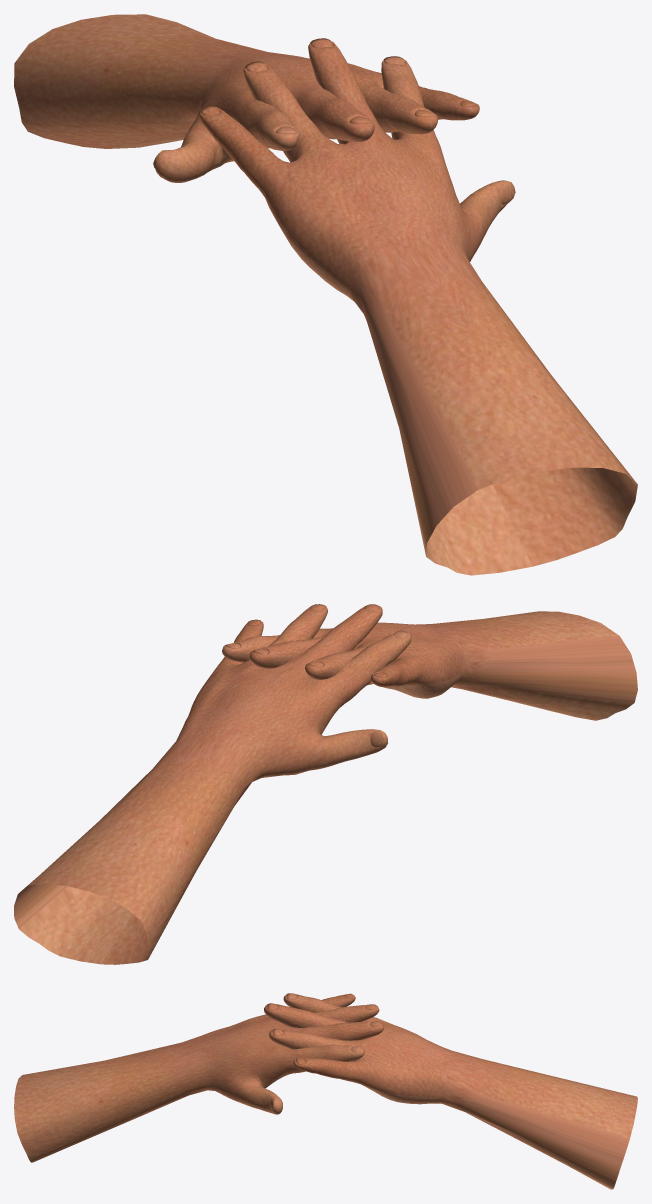
File: hands_000108.obj
The picture shows the model from 3 angles, top to bottom: view 1: azimuth 30°, elevation 25°; view 2: azimuth 150°, elevation 25°; view 3: azimuth 270°, elevation 25°; orthographic projection. The views are drawn at different scales.
Visible parts, largest first — view 1: hand.001_Mesh.001, hand_Mesh; view 2: hand_Mesh, hand.001_Mesh.001; view 3: hand_Mesh, hand.001_Mesh.001.
Part boxes in pixels (x1,y1,x2,y2): hand.001_Mesh.001: (199,38,637,575); hand_Mesh: (14,14,479,182); hand_Mesh: (14,604,411,964); hand.001_Mesh.001: (222,611,637,720); hand_Mesh: (264,993,637,1189); hand.001_Mesh.001: (14,993,383,1162).
Bounding box in the file's own units: 1.65 × 1.42 × 5.09.
1 material, 1 textured.
